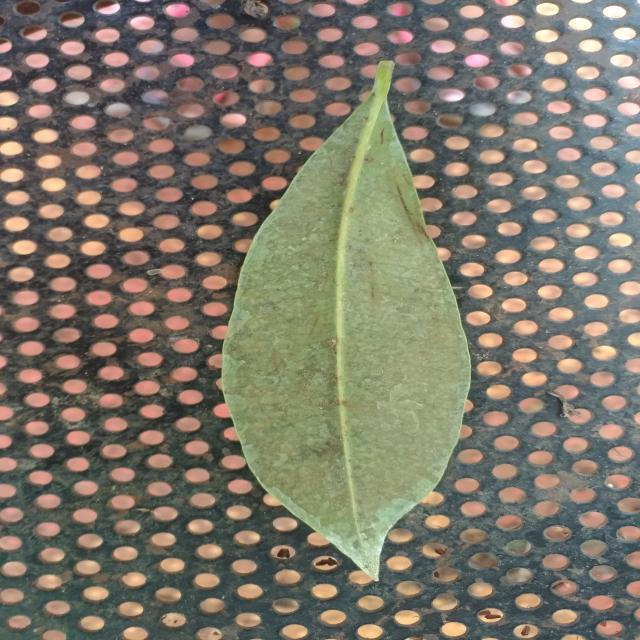nerale: (222, 61, 471, 578)
